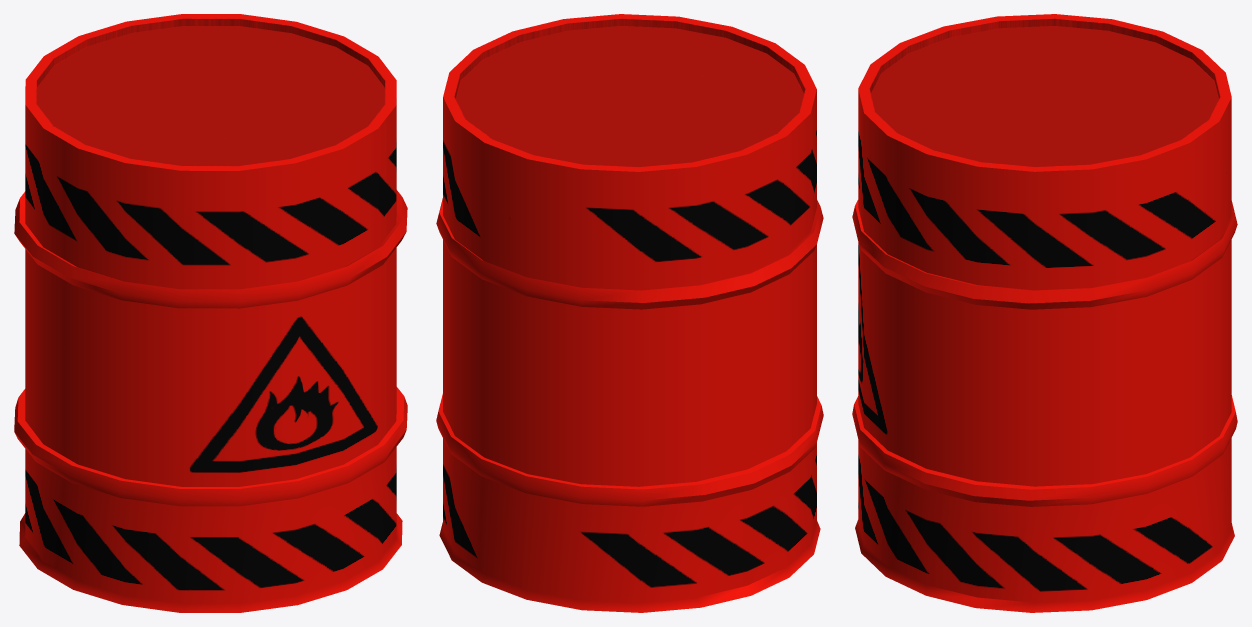
The model's file is drum.fbx.
3 renders of one model, left to right at view 1: azimuth 30°, elevation 25°; view 2: azimuth 150°, elevation 25°; view 3: azimuth 270°, elevation 25°, orthographic.
Visible parts, largest first — view 1: pCylinder3; view 2: pCylinder3; view 3: pCylinder3.
Part boxes in pixels (x1,y1,x2,y2): pCylinder3: (14,14,407,612); pCylinder3: (436,14,823,612); pCylinder3: (852,14,1237,612).
Size of the model in its own units: 0.8382 by 1.04 by 0.8243.
1 material, 1 textured.
